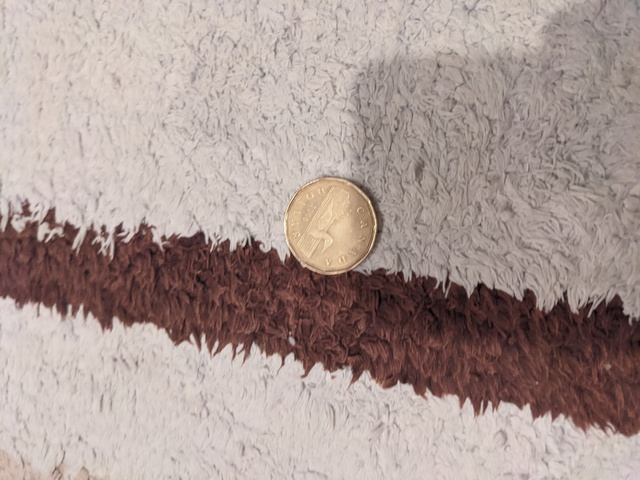loonie: (283, 171, 387, 278)
